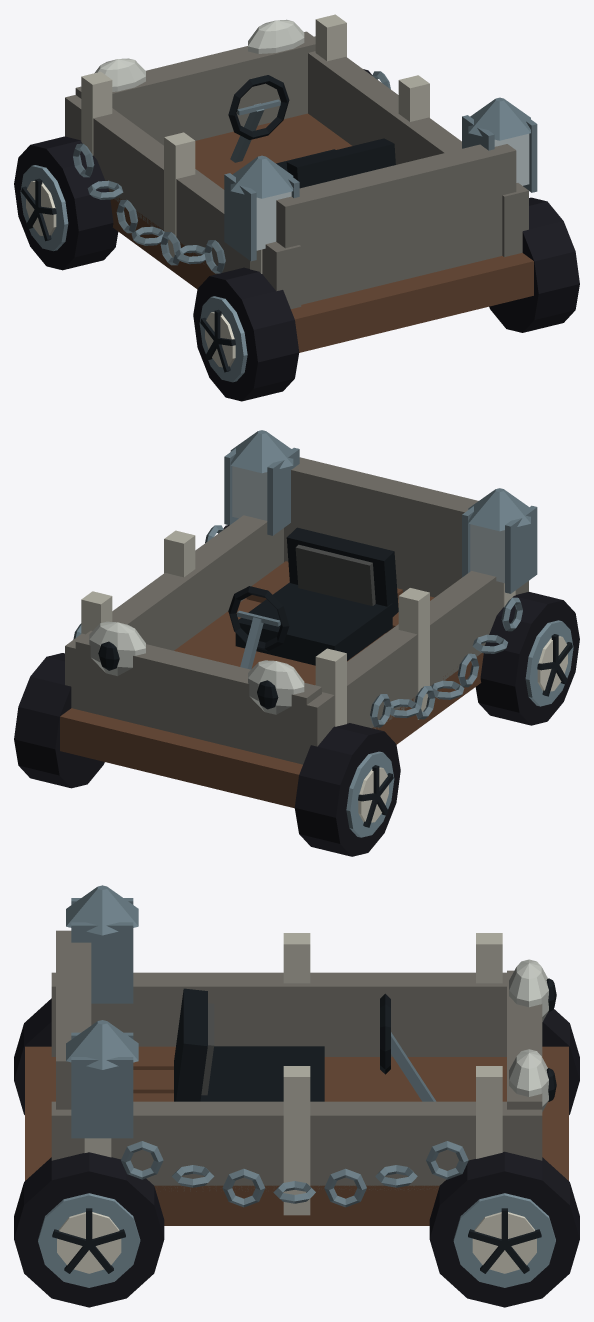
Rendered from kart.glb.
3 renders of one model, top to bottom at view 1: azimuth 30°, elevation 25°; view 2: azimuth 150°, elevation 25°; view 3: azimuth 270°, elevation 25°, orthographic. The views are drawn at different scales.
Visible parts, largest first — view 1: identity-wagon-wagon-timber-coach, wheel-rear-left, wheel-front-left, identity-wagon-motif-lanterns, wheel-rear-right, identity-wagon-driver-cockpit, identity-wagon-motif-chains, identity-wagon-motif-eyes; view 2: identity-wagon-wagon-timber-coach, identity-wagon-driver-cockpit, identity-wagon-motif-lanterns, wheel-front-left, wheel-rear-left, wheel-front-right, identity-wagon-motif-eyes, identity-wagon-motif-chains; view 3: identity-wagon-wagon-timber-coach, wheel-front-right, wheel-rear-right, identity-wagon-motif-lanterns, identity-wagon-driver-cockpit, identity-wagon-motif-chains, identity-wagon-motif-eyes, wheel-rear-left, wheel-front-left.
Part boxes in pixels (x1,y1,x2,y2): identity-wagon-wagon-timber-coach: (65, 14, 533, 352); wheel-rear-left: (193, 267, 299, 401); wheel-front-left: (14, 136, 118, 270); identity-wagon-motif-lanterns: (224, 97, 537, 261); wheel-rear-right: (489, 197, 579, 332); identity-wagon-driver-cockpit: (228, 75, 395, 188); identity-wagon-motif-chains: (73, 71, 390, 273); identity-wagon-motif-eyes: (94, 19, 304, 91); identity-wagon-wagon-timber-coach: (60, 457, 528, 808); identity-wagon-driver-cockpit: (228, 527, 398, 669); identity-wagon-motif-lanterns: (224, 430, 537, 593); wheel-front-left: (294, 723, 400, 856); wheel-rear-left: (475, 592, 579, 725); wheel-front-right: (14, 653, 104, 788); identity-wagon-motif-eyes: (89, 621, 304, 714); identity-wagon-motif-chains: (73, 525, 522, 727); identity-wagon-wagon-timber-coach: (25, 930, 568, 1225); wheel-front-right: (429, 1151, 579, 1307); wheel-rear-right: (14, 1152, 164, 1307); identity-wagon-motif-lanterns: (66, 885, 138, 1138); identity-wagon-driver-cockpit: (174, 988, 436, 1101); identity-wagon-motif-chains: (121, 1141, 468, 1207); identity-wagon-motif-eyes: (509, 959, 556, 1111); wheel-rear-left: (14, 998, 51, 1114); wheel-front-left: (542, 1009, 579, 1114).
Size of the model in its own units: 2.07 by 1.3 by 2.56.
